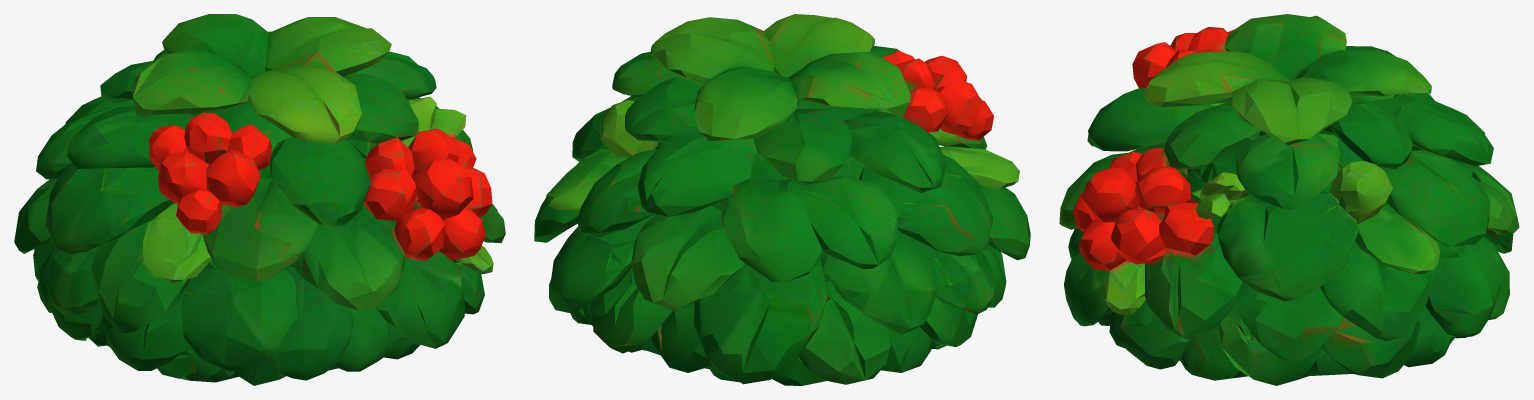
Rendered from oe-busk.glb.
The picture shows the model from 3 angles, left to right: view 1: azimuth 30°, elevation 25°; view 2: azimuth 150°, elevation 25°; view 3: azimuth 270°, elevation 25°; orthographic projection. The views are drawn at different scales.
Bounding box in the file's own units: 1.9 × 1.12 × 1.9.
Materials: 1 (1 with a texture image).
